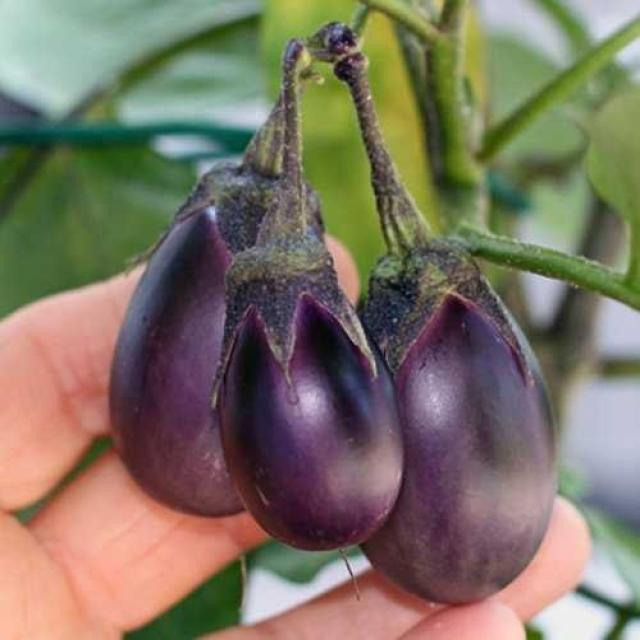Eggplant-r1Ob: (321, 28, 556, 602), (216, 41, 404, 549), (111, 104, 284, 514)
